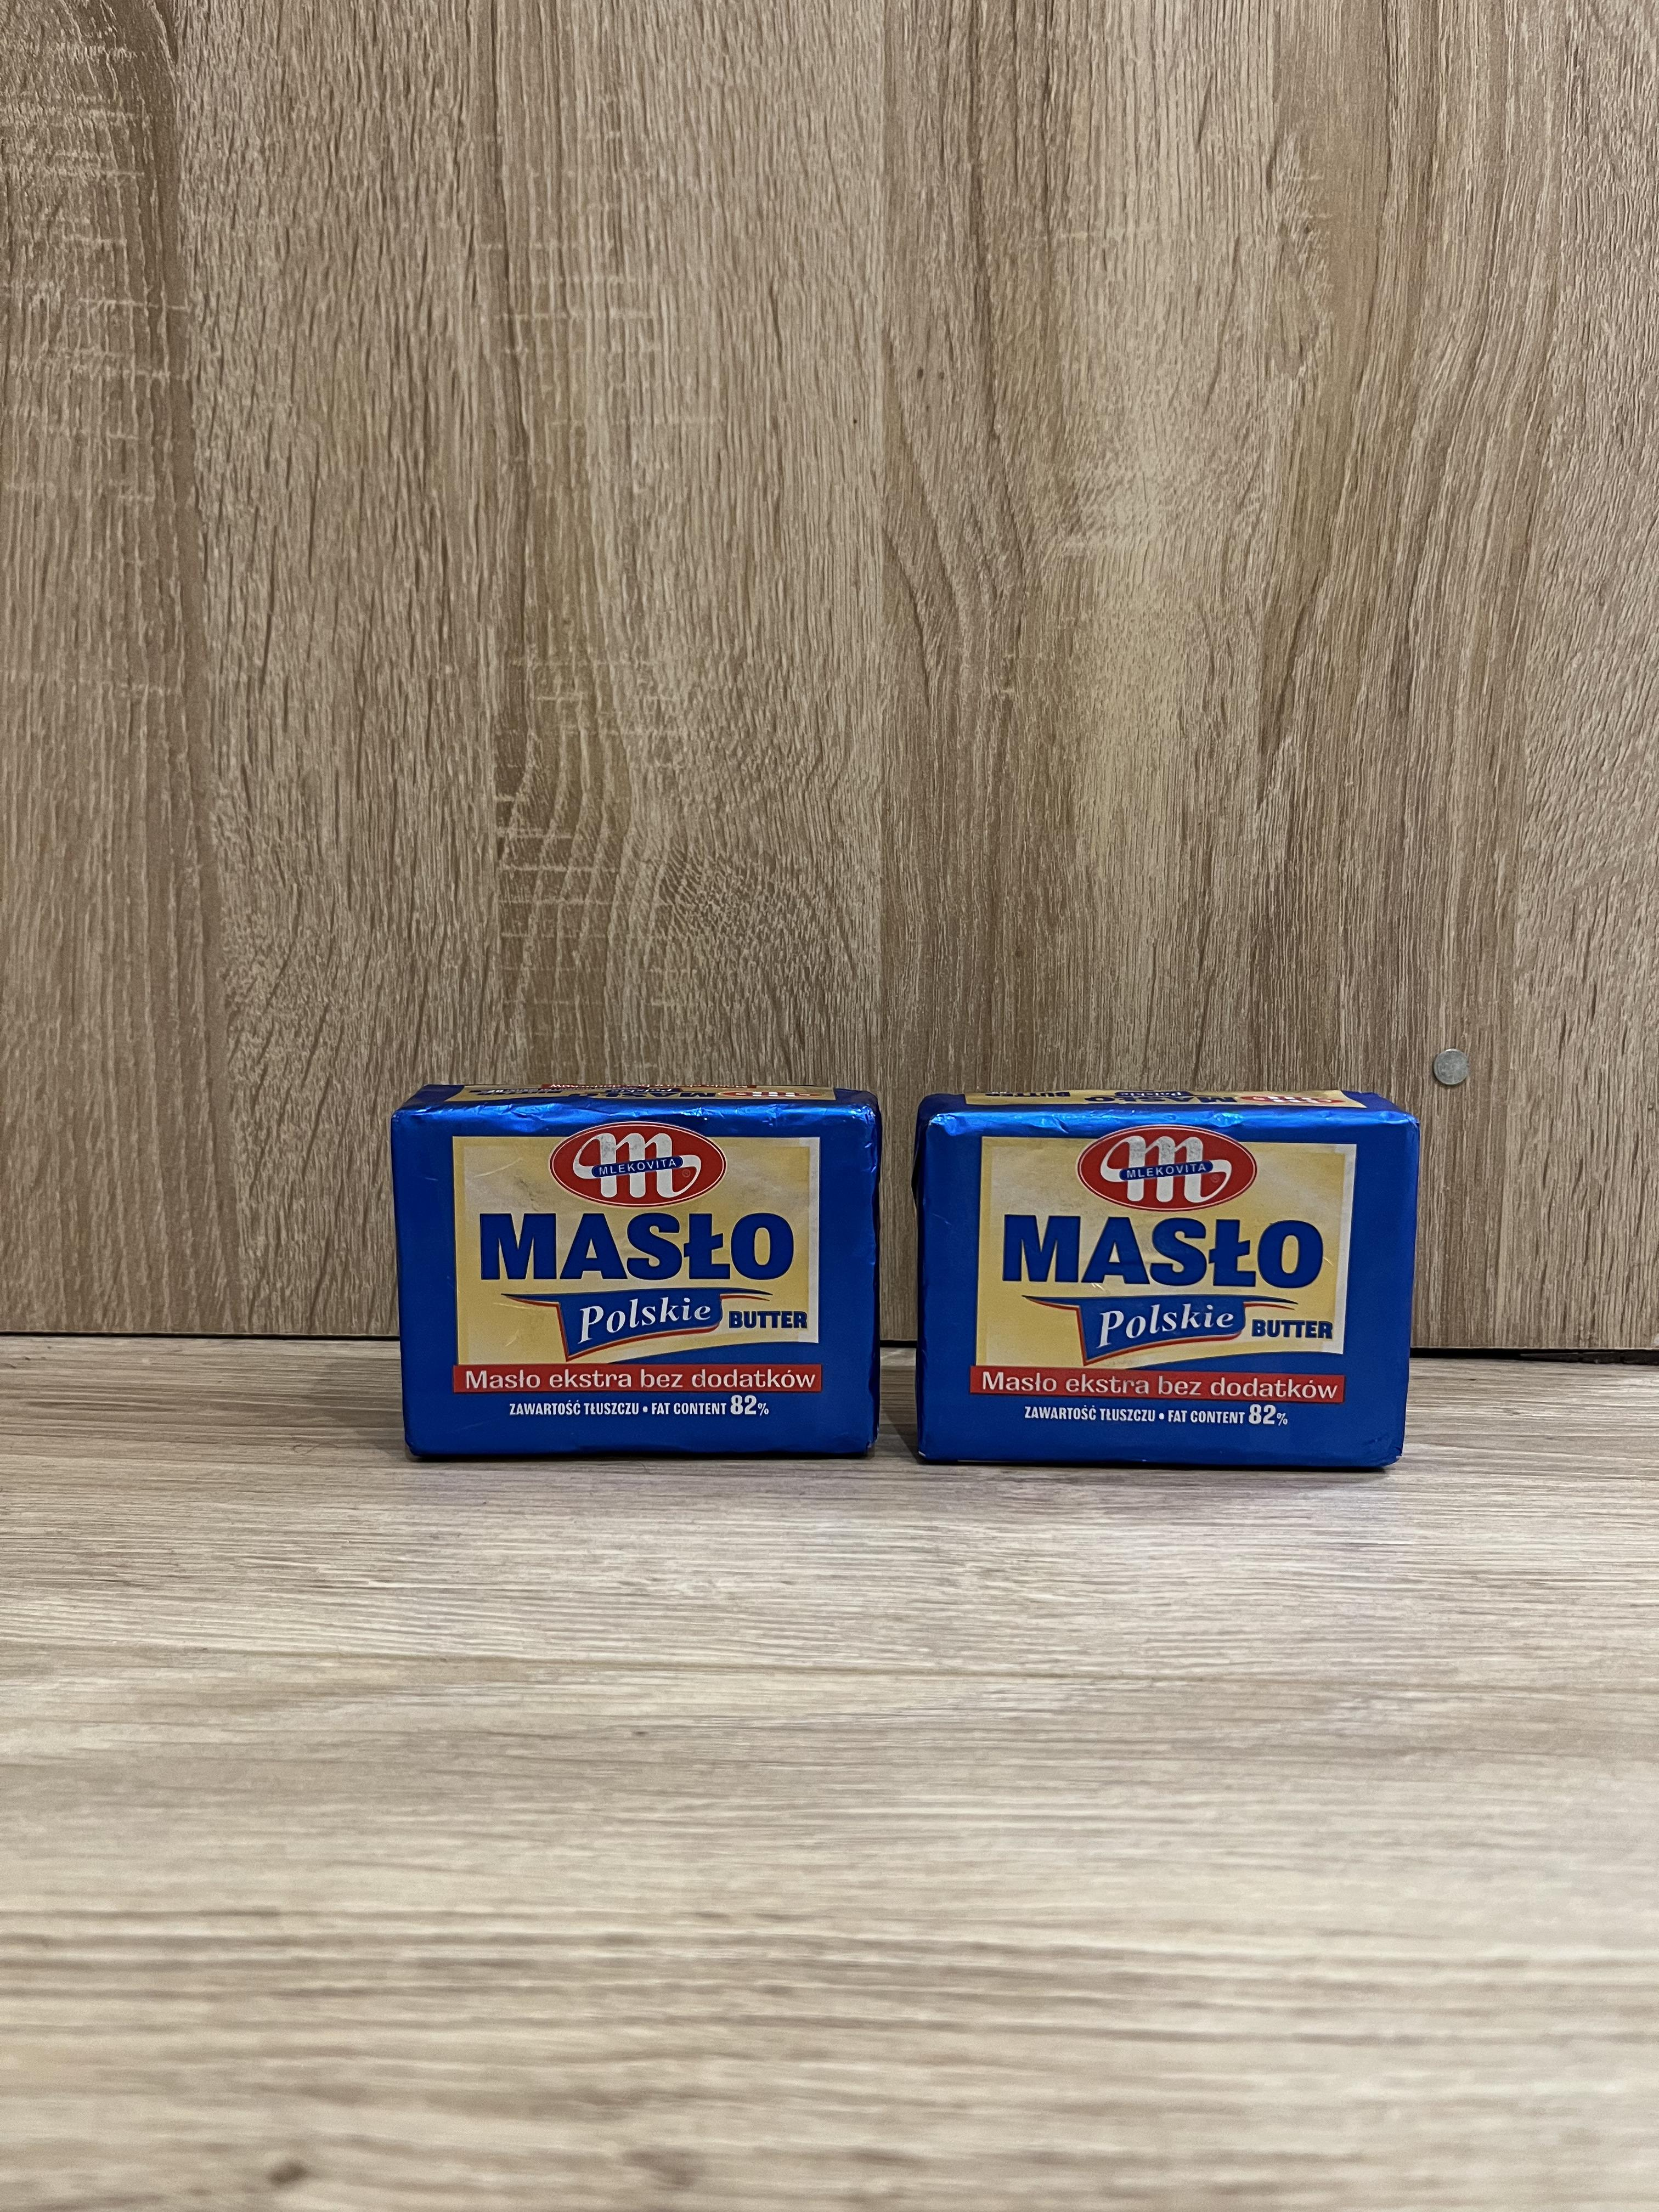Butter: (918, 1087, 1415, 1484), (385, 1080, 884, 1463)
